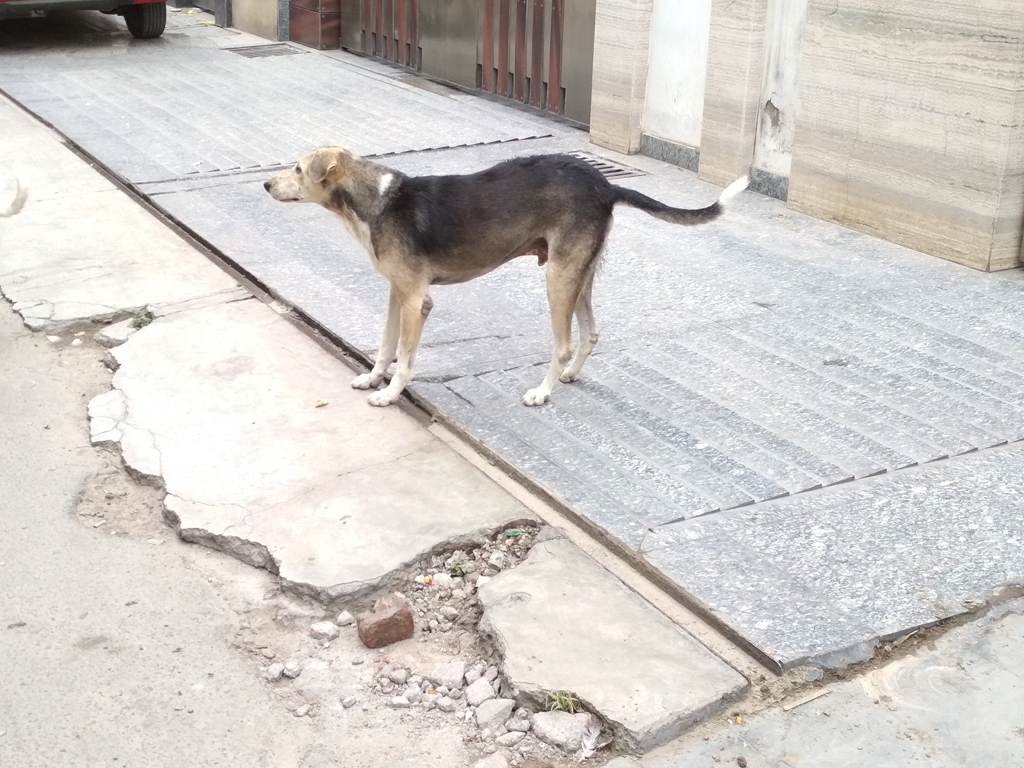dog: (264, 145, 751, 408)
